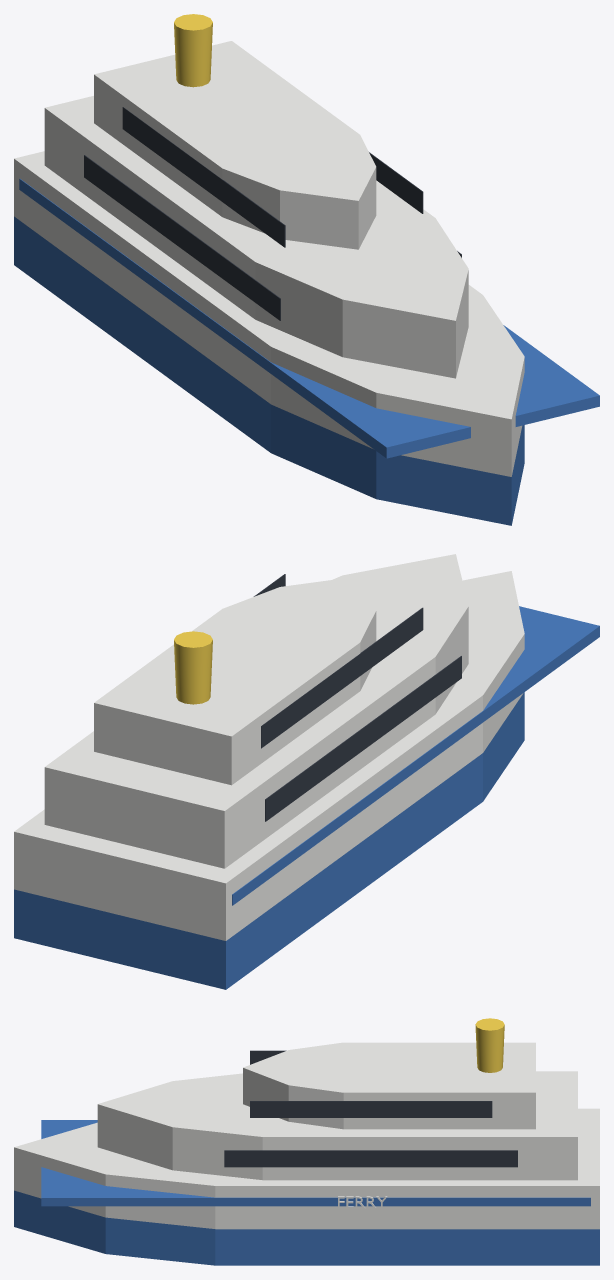
The model's file is ferry.gltf.
3 views of the same model, one above another, from view 1: azimuth 30°, elevation 25°; view 2: azimuth 150°, elevation 25°; view 3: azimuth 270°, elevation 25° (orthographic). The views are drawn at different scales.
Parts seen in each view (by area): view 1: ferry; view 2: ferry; view 3: ferry.
Part boxes in pixels (<box>): ferry: <box>14,14,599,525</box>; ferry: <box>14,554,599,989</box>; ferry: <box>14,1018,599,1265</box>.
Bounding box in the file's own units: 2.03 × 2.44 × 6.4.
